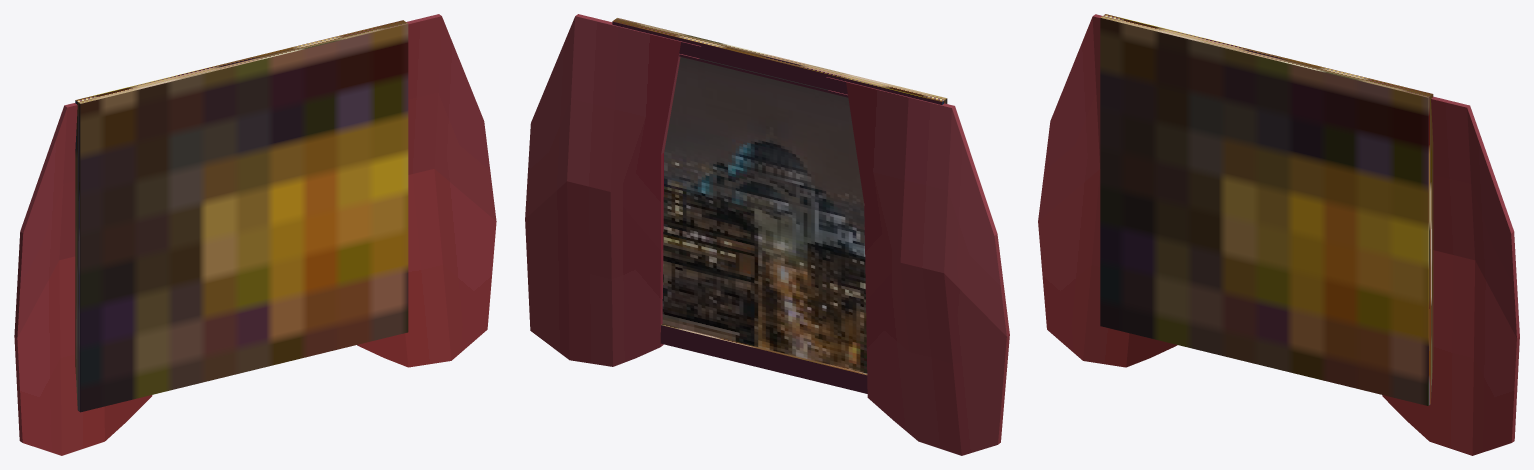
File: hram prozor.glb
The picture shows the model from 3 angles, left to right: view 1: azimuth 30°, elevation 25°; view 2: azimuth 150°, elevation 25°; view 3: azimuth 330°, elevation 25°; orthographic projection.
Parts seen in each view (by area): view 1: Cube.003; view 2: Cube.003; view 3: Cube.003.
Boxes of the visible parts, x1=… form: Cube.003: x1=14, y1=14, x2=496, y2=455; Cube.003: x1=525, y1=14, x2=1009, y2=455; Cube.003: x1=1038, y1=14, x2=1519, y2=455.
Bounding box in the file's own units: 7.4 × 5.15 × 0.3669.
Materials: 5 (3 with a texture image).
